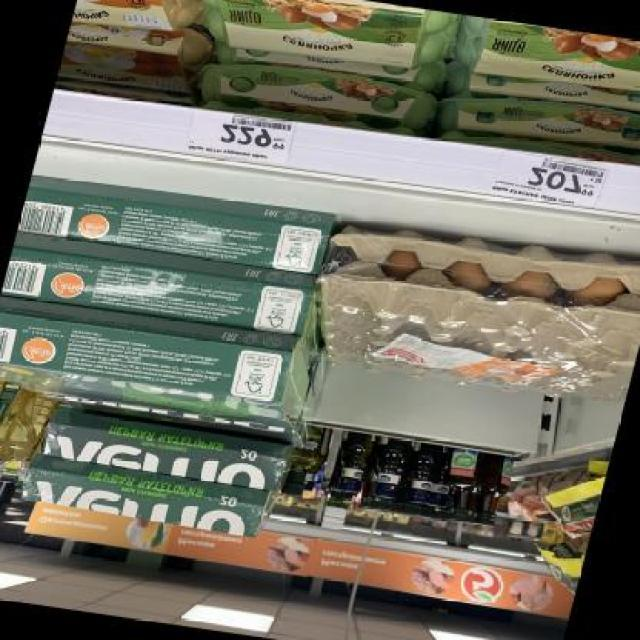egg: (191, 54, 446, 138), (181, 0, 458, 75), (446, 14, 640, 101), (433, 84, 639, 162), (56, 17, 216, 98), (446, 66, 640, 122), (308, 426, 381, 536), (357, 430, 418, 524), (72, 0, 208, 40), (274, 416, 337, 502), (435, 438, 493, 527), (0, 382, 44, 487), (399, 440, 455, 520), (470, 450, 522, 530)
